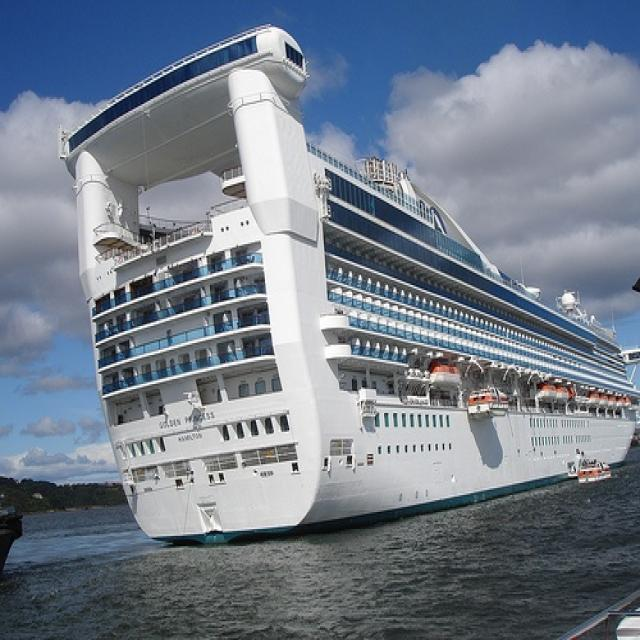boat: (57, 22, 638, 548), (467, 384, 508, 420), (572, 457, 612, 490), (434, 359, 462, 389), (531, 386, 554, 410), (557, 386, 576, 404), (586, 388, 600, 412)
